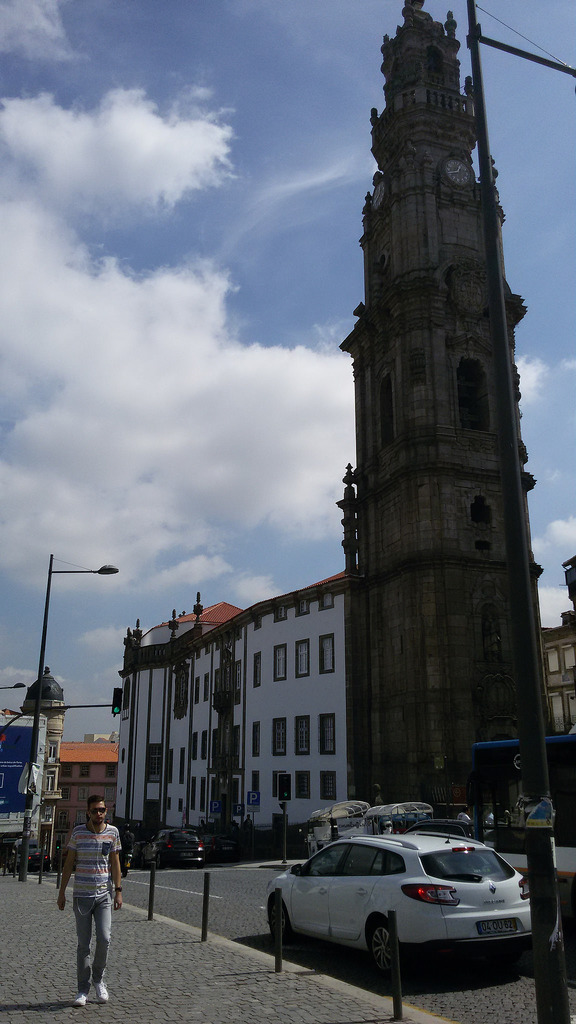clerigos: (336, 0, 556, 842)
